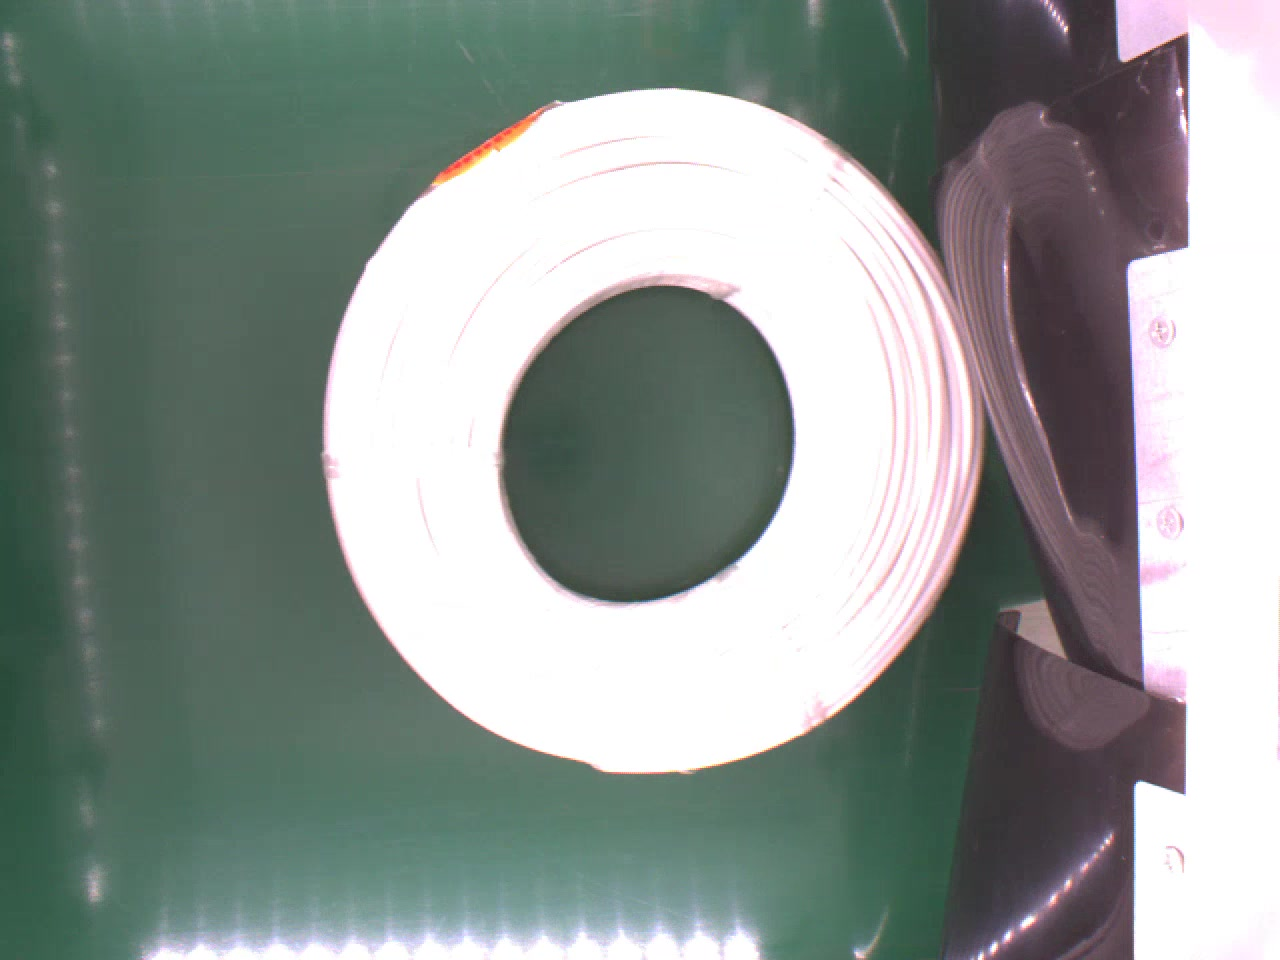white: (309, 78, 1001, 787)
